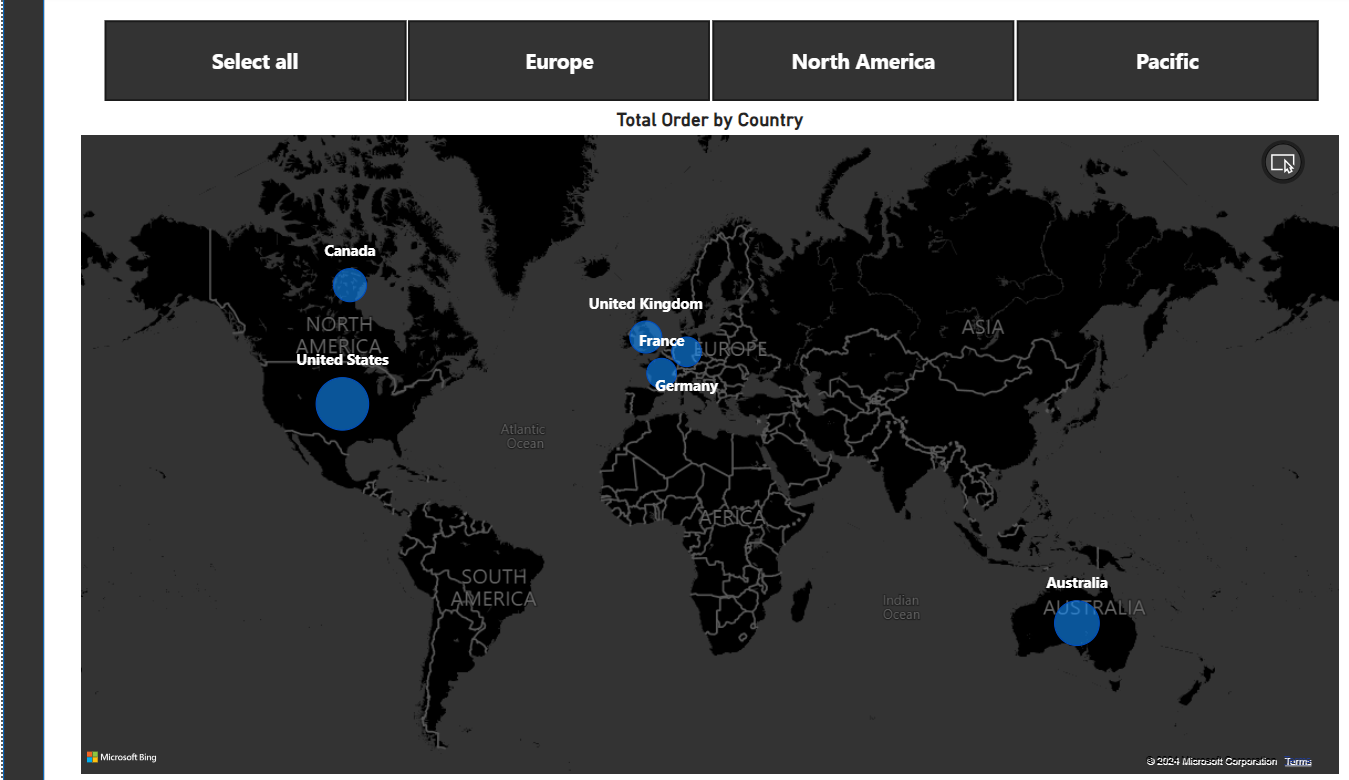

This screenshot's page, from the dashboard's own definition file:
{"tool":"powerbi","page":{"name":"MAP","canvas":[1280,720],"ordinal":1},"visuals":[{"type":"shape","box":[0,0,37.2,719.8],"z":0},{"type":"map","fields":{"Category":["Territory Lookup.Country"],"Size":["Measure Table.Total Order"]},"box":[65.6,102.9,1147.3,605.8],"z":1000},{"type":"slicer","fields":{"Values":["Territory Lookup.Continent"]},"box":[65.6,15.6,1147.8,86.7],"z":2000}]}

Visuals, with their boxes in screenshot pixels (x1, y1, x2, y2), scaled from the page's 1280x720 canvas onto the 1349x780 screenshot:
shape: [left=0, top=0, right=39, bottom=779]
map - Territory Lookup.Country x Measure Table.Total Order: [left=69, top=111, right=1278, bottom=768]
slicer - Territory Lookup.Continent: [left=69, top=17, right=1279, bottom=111]
